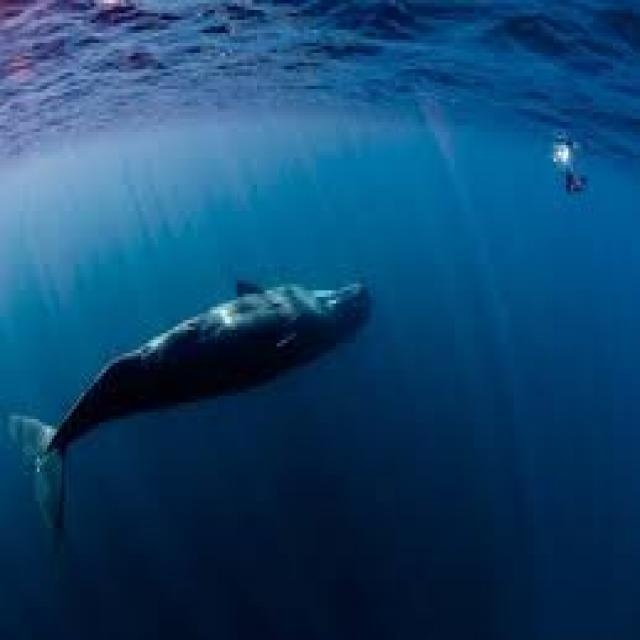blue_whale: (7, 258, 398, 578)
